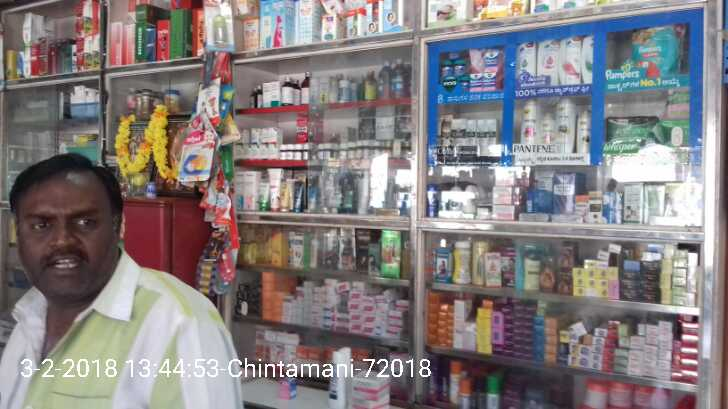beauty: (555, 97, 575, 153), (577, 107, 591, 156), (450, 118, 466, 146), (477, 120, 485, 157), (486, 119, 496, 147), (466, 118, 475, 146)
pharmacy: (631, 25, 685, 73), (607, 116, 660, 148), (661, 116, 691, 148), (668, 87, 691, 120), (484, 46, 499, 67), (452, 59, 466, 75), (482, 71, 495, 86), (440, 61, 452, 76), (468, 74, 481, 86)
